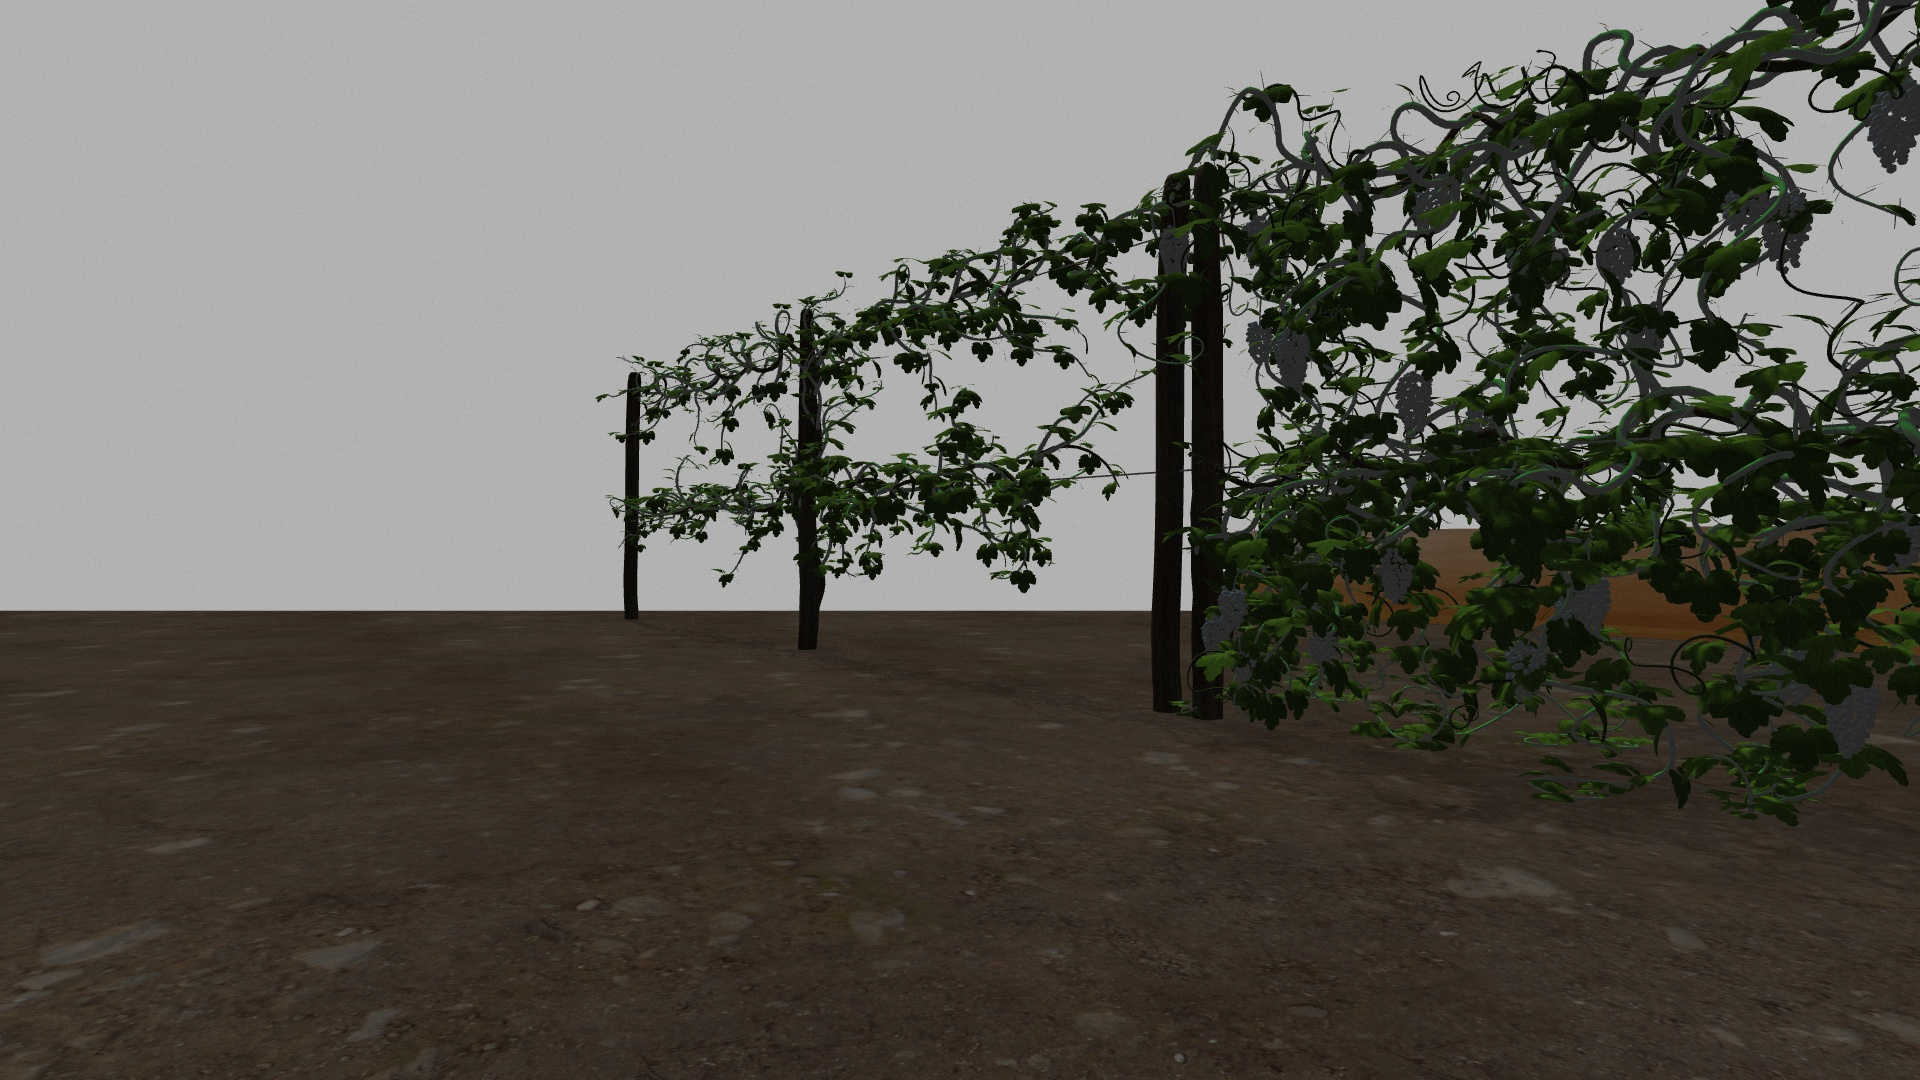grape: (1866, 88, 1917, 175), (1826, 678, 1880, 760), (1763, 191, 1811, 273), (1567, 572, 1613, 632), (1395, 369, 1433, 435), (1273, 328, 1309, 393), (1597, 228, 1635, 286), (1379, 547, 1418, 604), (1721, 189, 1763, 237), (1506, 633, 1548, 675), (1158, 225, 1189, 276), (1217, 585, 1249, 629), (1245, 320, 1275, 365), (1305, 629, 1338, 665), (1201, 615, 1228, 654)
